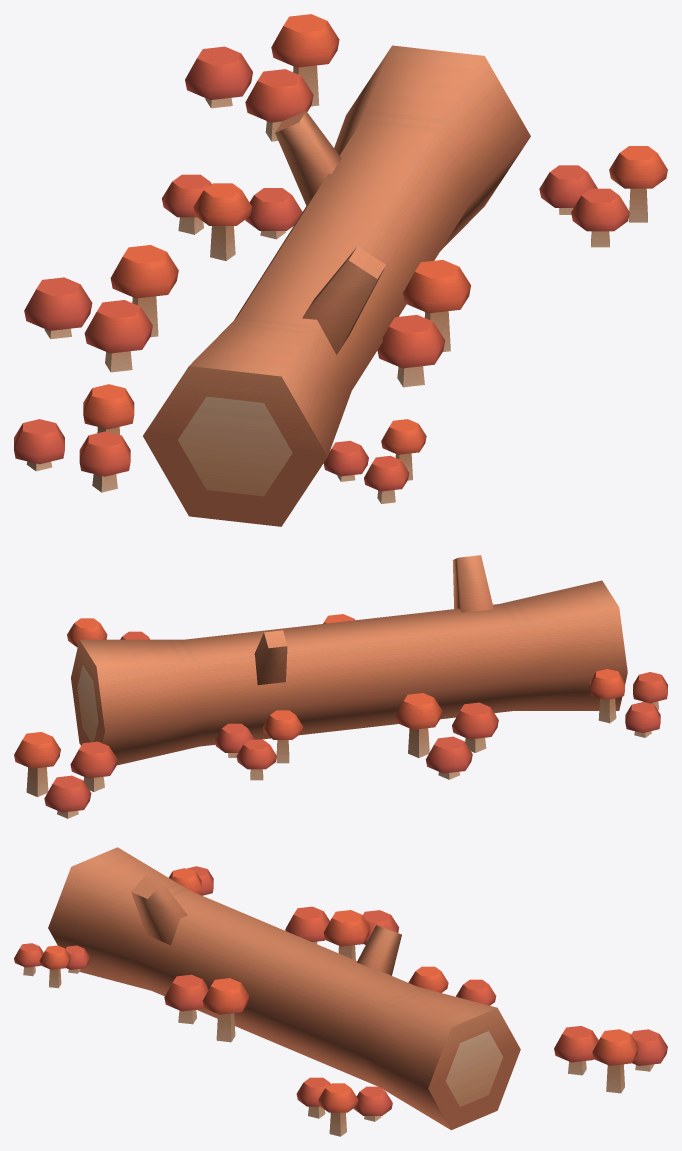
The model's file is Fallen Log.glb.
3 views of the same model, one above another, from view 1: azimuth 30°, elevation 25°; view 2: azimuth 150°, elevation 25°; view 3: azimuth 270°, elevation 25° (orthographic). The views are drawn at different scales.
Visible parts, largest first — view 1: mushrooms; view 2: mushrooms; view 3: mushrooms.
Boxes of the visible parts, x1=… form: mushrooms: x1=14, y1=14, x2=667, y2=526; mushrooms: x1=14, y1=555, x2=667, y2=818; mushrooms: x1=14, y1=847, x2=667, y2=1136.
Size of the model in its own units: 4.41 by 1.11 by 4.87.
Materials: 2 (2 with a texture image).
